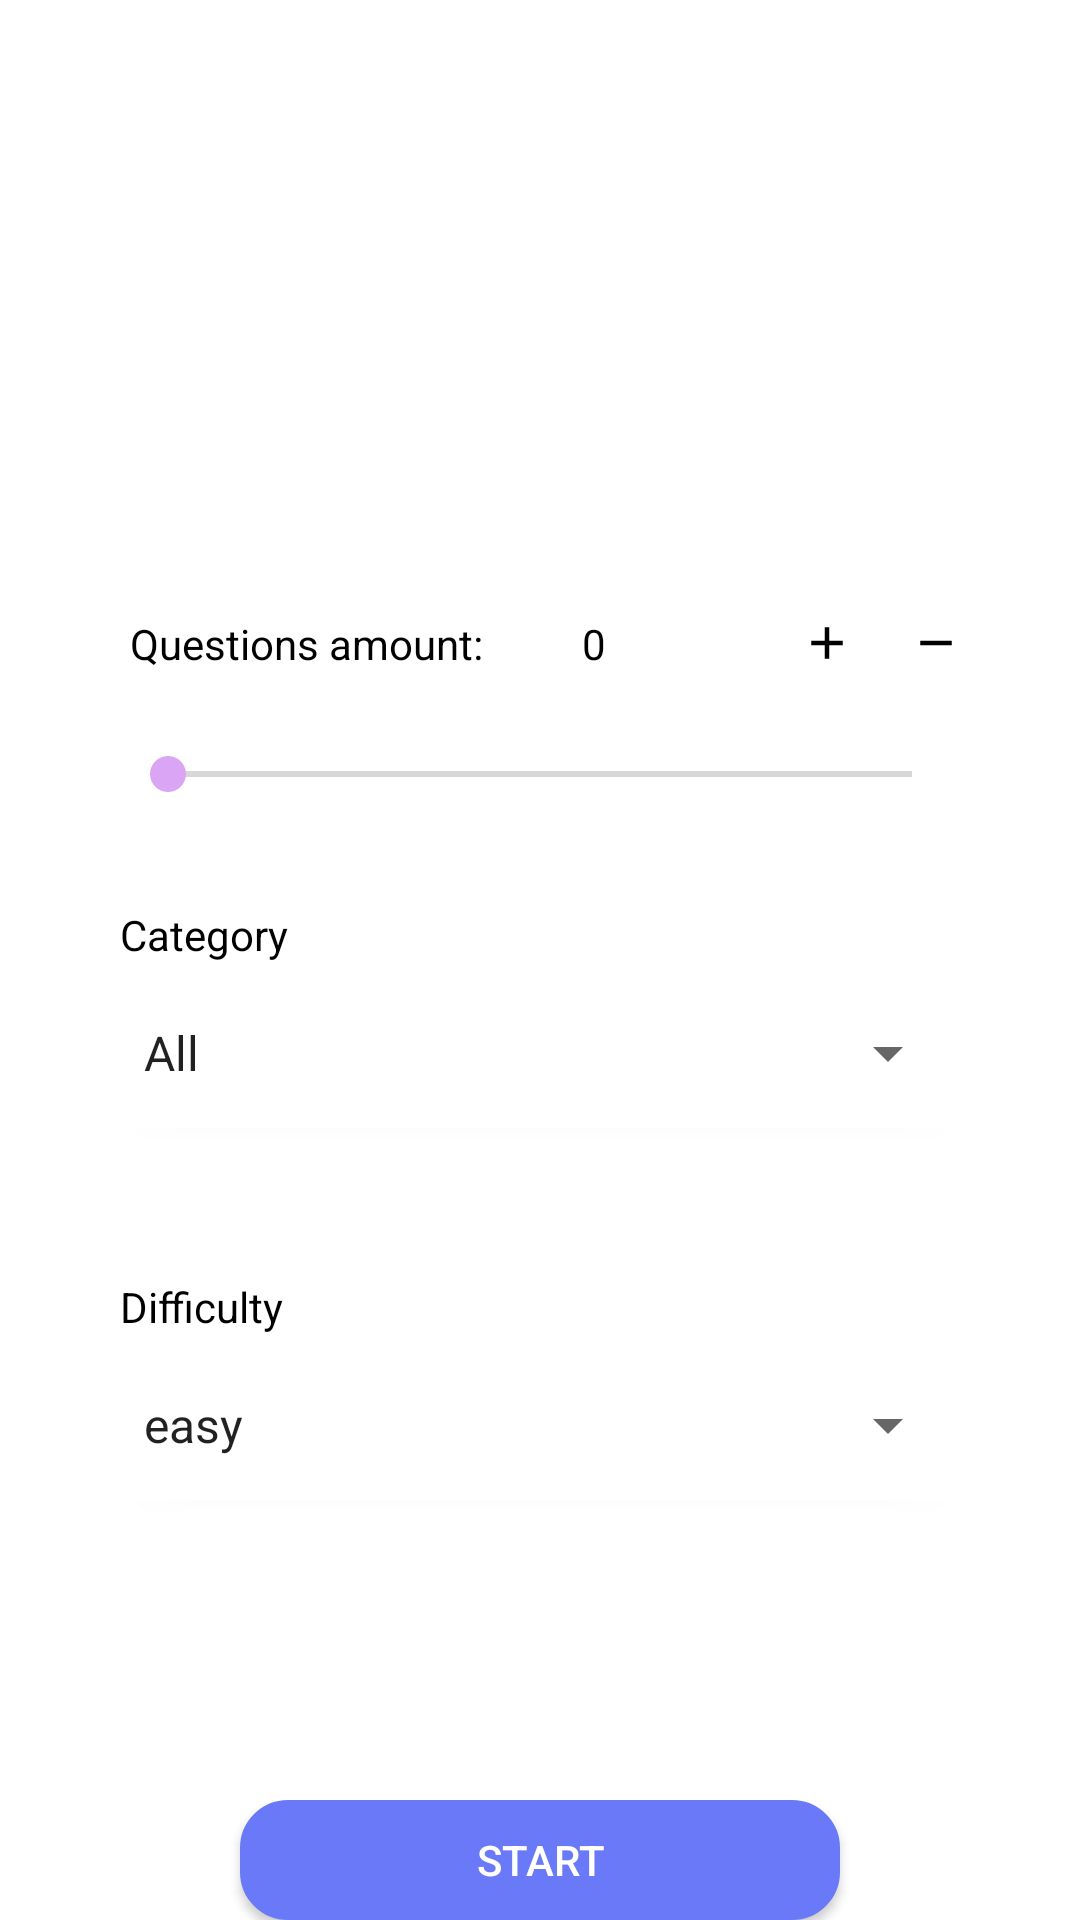

Screen size 1080w x 1920h. Icon name, then its box in pixels as (x1, y1, x2, y2):
plus: (811, 627, 843, 659)
remove: (920, 640, 952, 646)
